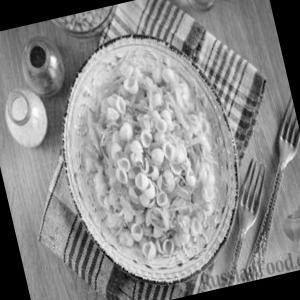pasta: (34, 20, 264, 294)
